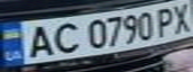0: (81, 16, 109, 50), (136, 9, 157, 42)
7: (103, 14, 124, 47)
9: (121, 11, 142, 44)
A: (21, 22, 57, 58)
C: (45, 20, 84, 55)
P: (151, 4, 181, 37)
X: (169, 0, 193, 34)
